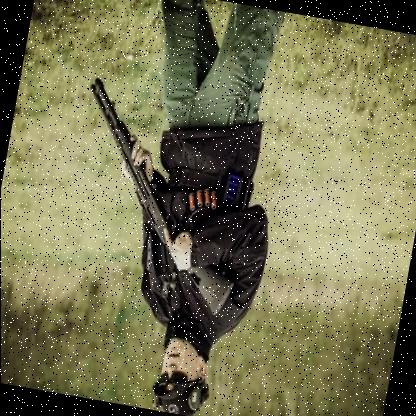rifle: (55, 71, 264, 314)
